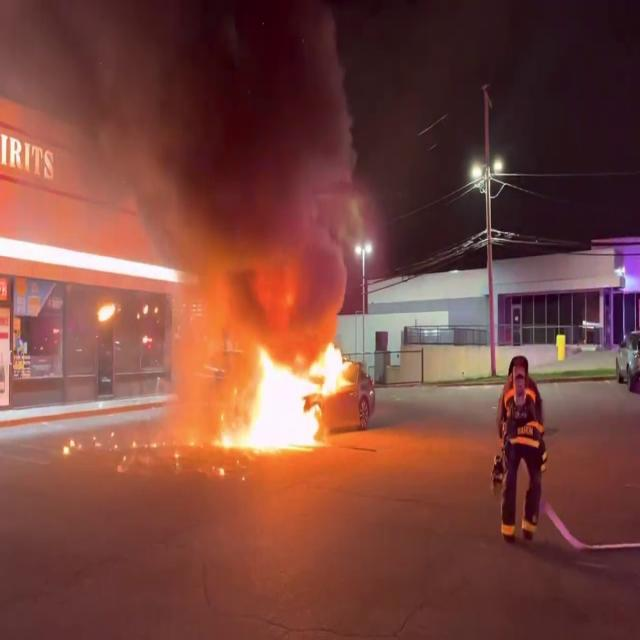Fire: (220, 328, 352, 456)
Smoke: (87, 0, 380, 331)
